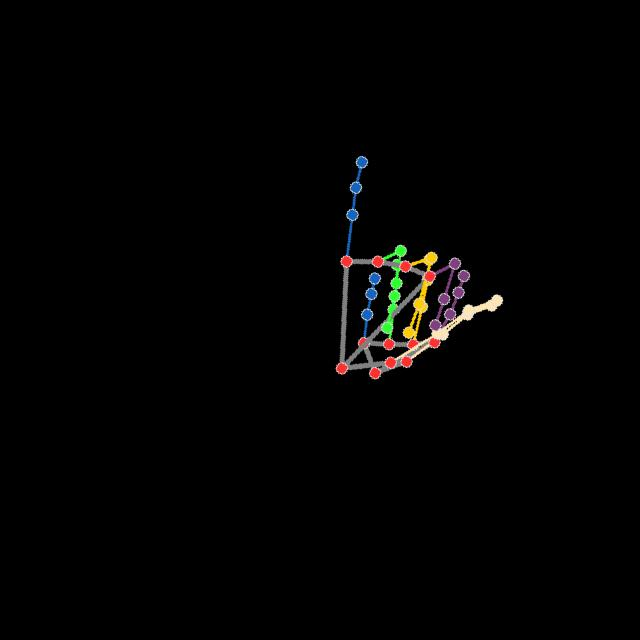skr: (332, 151, 532, 383)
